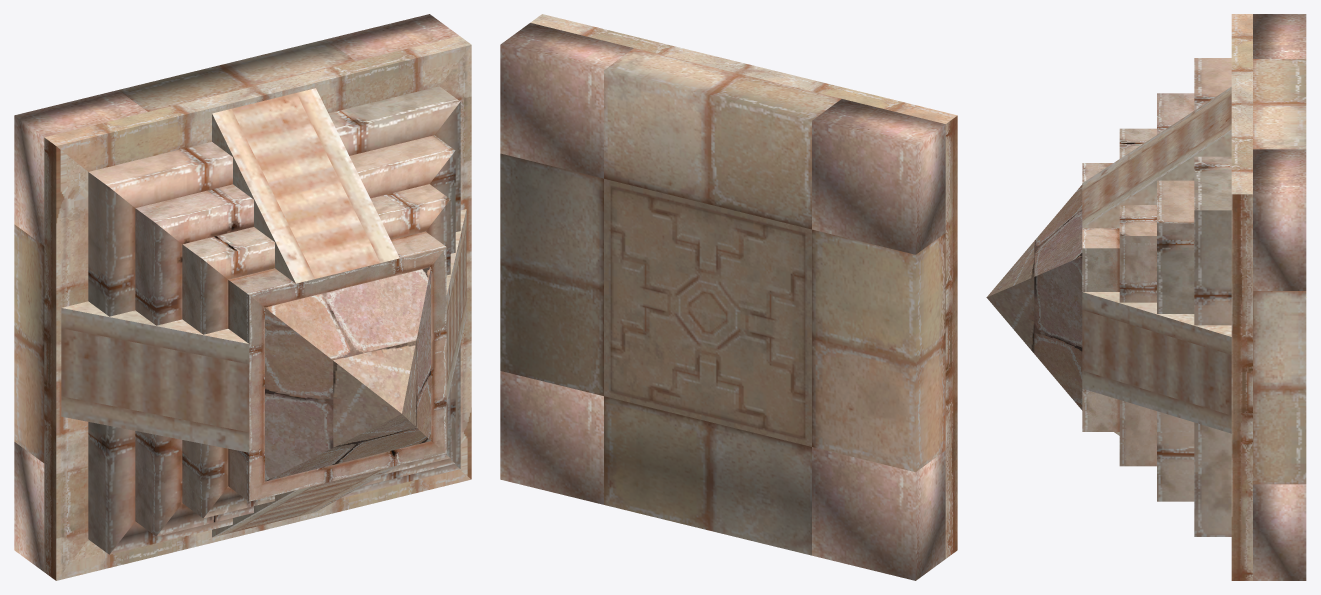
File: Lift000.obj
3 renders of one model, left to right at view 1: azimuth 30°, elevation 25°; view 2: azimuth 150°, elevation 25°; view 3: azimuth 270°, elevation 25°, orthographic. The views are drawn at different scales.
Parts seen in each view (by area): view 1: polySurface147__Stone_Lift00, polySurface147__StairStoneBase01, polySurface147__WallBrickBase04, polySurface147__StonePillar00; view 2: polySurface147__Stone_Lift00, polySurface147__StonePillar00, polySurface147__StoneLift01; view 3: polySurface147__Stone_Lift00, polySurface147__StairStoneBase01, polySurface147__StonePillar00, polySurface147__WallBrickBase04.
Boxes of the visible parts, left/top/right/bottom form: polySurface147__Stone_Lift00: left=14, top=36, right=471, bottom=580; polySurface147__StairStoneBase01: left=88, top=86, right=460, bottom=554; polySurface147__WallBrickBase04: left=265, top=267, right=430, bottom=481; polySurface147__StonePillar00: left=14, top=14, right=459, bottom=571; polySurface147__Stone_Lift00: left=500, top=14, right=957, bottom=558; polySurface147__StonePillar00: left=500, top=23, right=945, bottom=580; polySurface147__StoneLift01: left=604, top=179, right=811, bottom=446; polySurface147__Stone_Lift00: left=1082, top=14, right=1306, bottom=580; polySurface147__StairStoneBase01: left=1082, top=58, right=1231, bottom=536; polySurface147__StonePillar00: left=1253, top=14, right=1306, bottom=580; polySurface147__WallBrickBase04: left=986, top=184, right=1082, bottom=410.
Size of the model in its own units: 400 by 400 by 300.
Materials: 6 (5 with a texture image).
